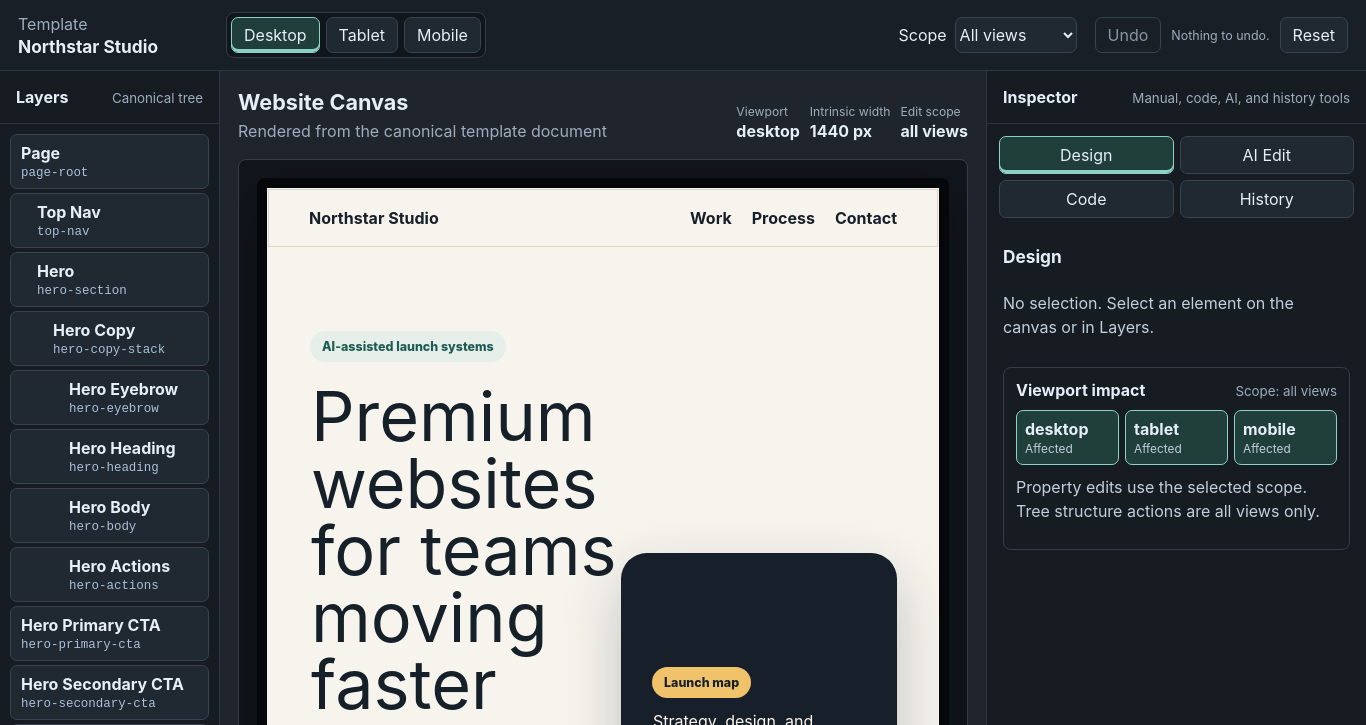
Test: EditorShell › explains that fixed nav elements cannot be moved
The image size is (1366, 725).
Click the button with aria-label "Top Nav, top-nav".
click(110, 220)  # box [10,193,209,248]
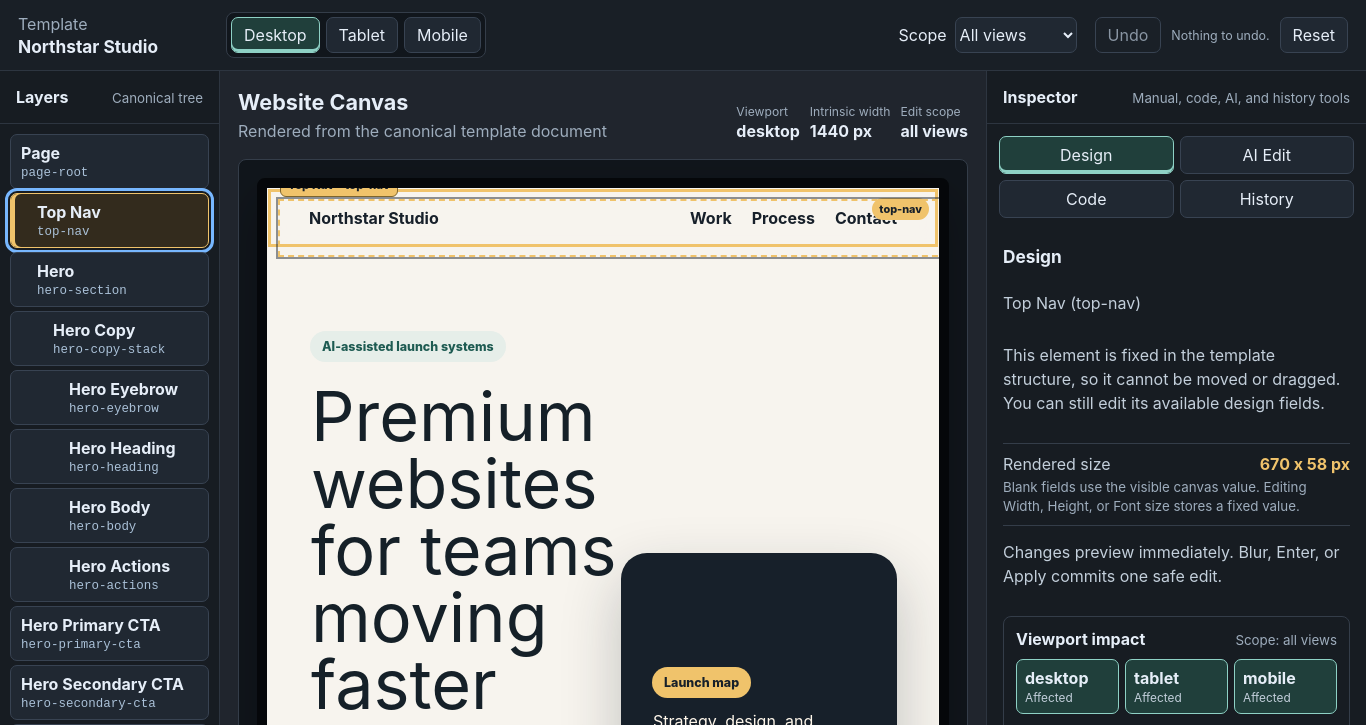
Expected: the message shows "This element is fixed in the template structure", [1003,345,1340,413]
